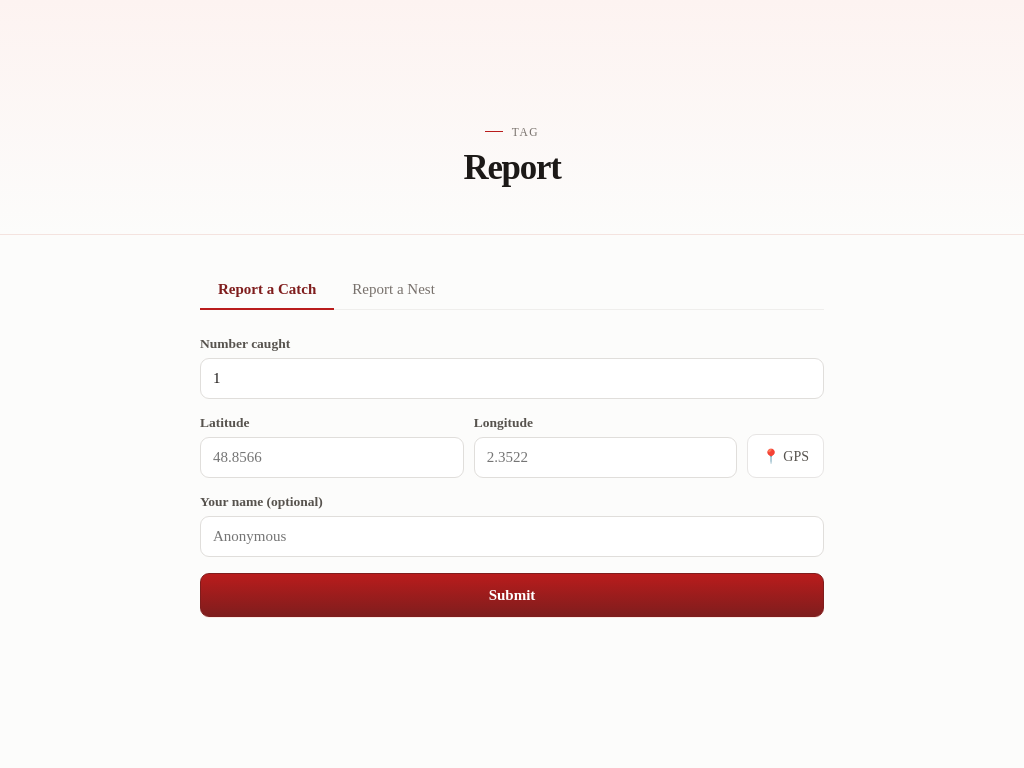
it: HornetReportPage › shows success message after anonymous catch submission
Click the button "Submit" at (512, 595), box top-left (200, 573), bottom-right (824, 617)
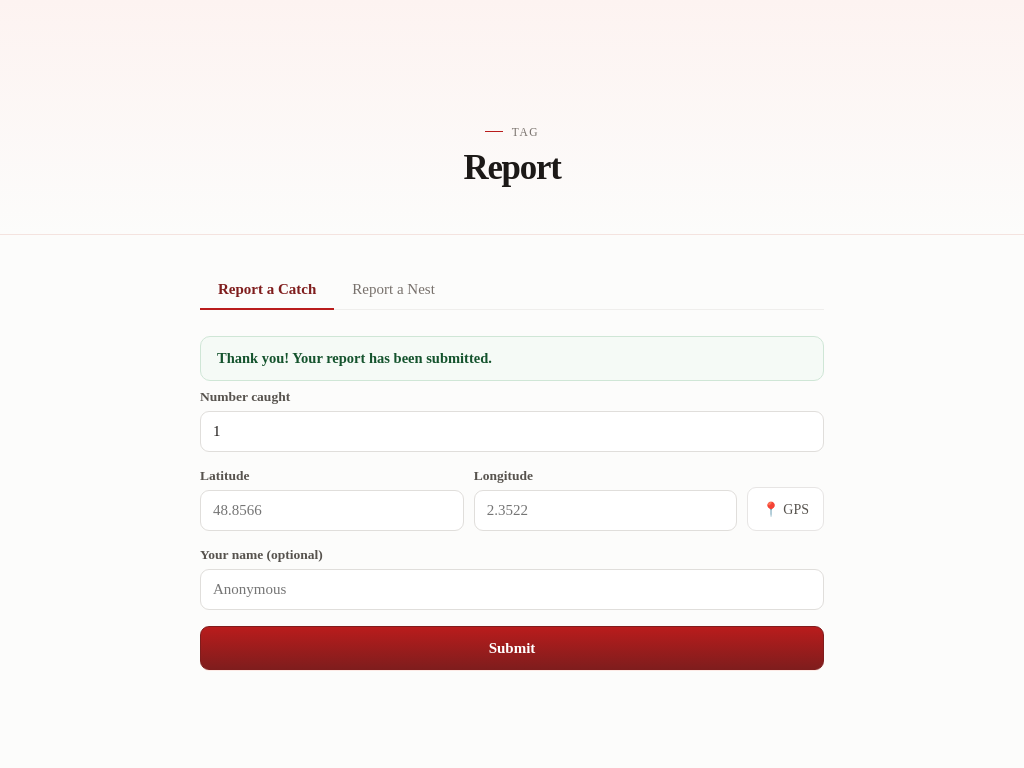
Now the text "Thank you! Your report has been submitted." is shown, box top-left (200, 336), bottom-right (824, 381)
